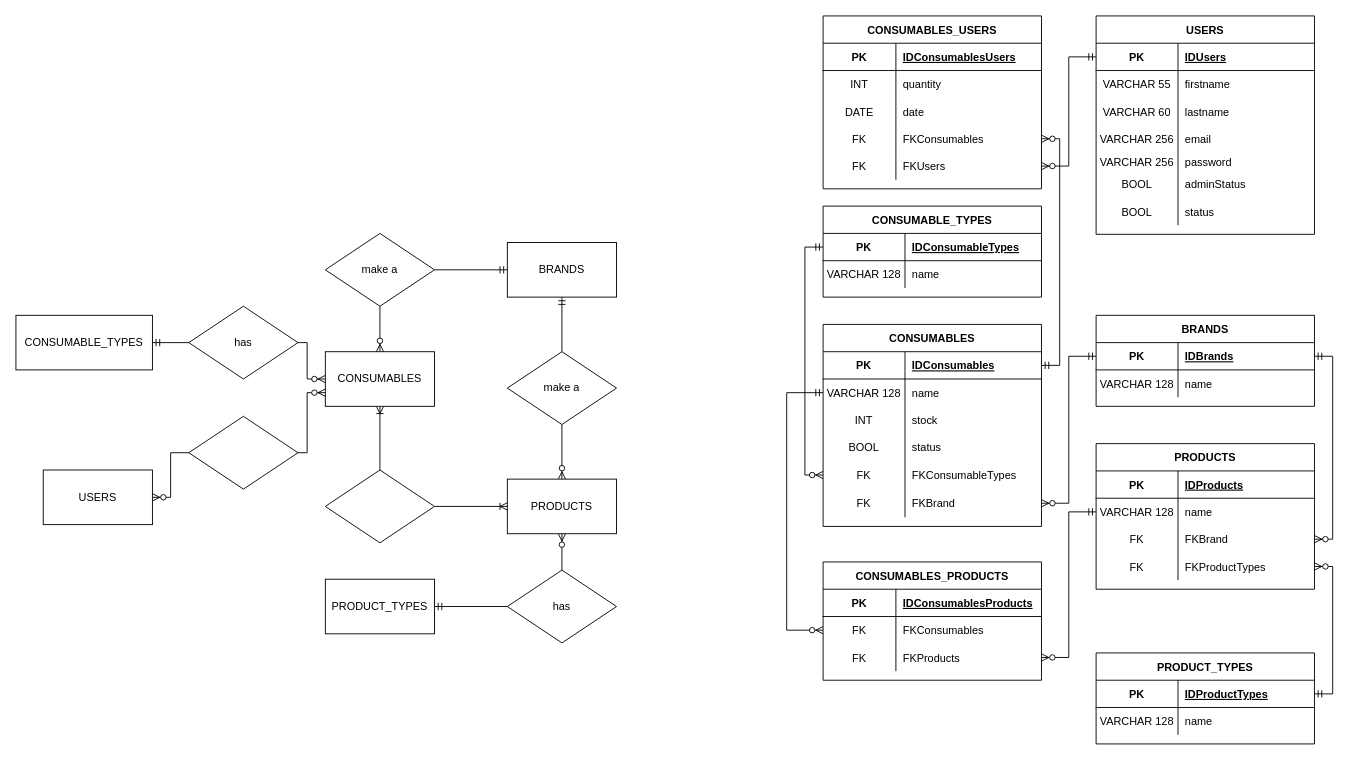
This 1357x760 diagram has some shape labels left out. The centre of each missing label's shape, as x and y in pixels:
"take a" belongs at (243,452).
"use a" belongs at (379,506).
